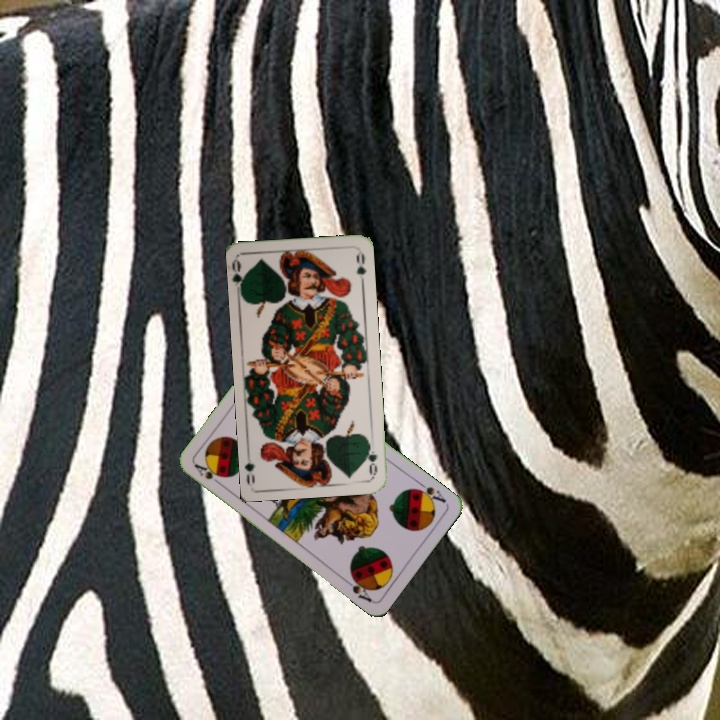GO: (229, 256, 250, 297), (362, 437, 380, 478)
SA: (410, 477, 449, 506), (190, 459, 226, 489)
